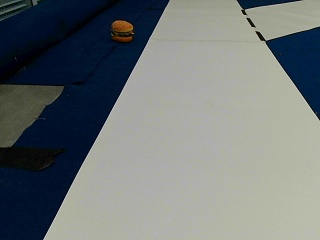burger: (110, 17, 134, 42)
